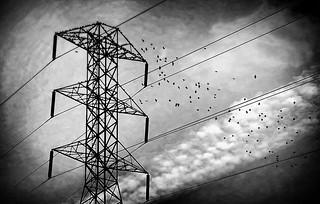power_tower: (44, 17, 152, 204)
